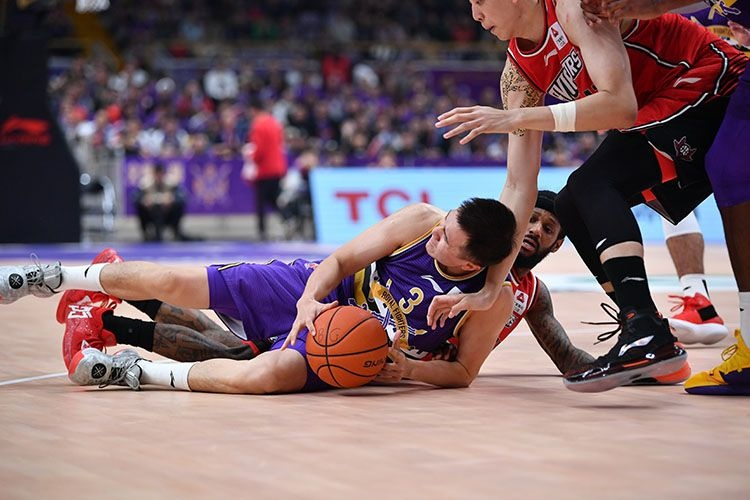falling: (363, 196, 627, 393)
